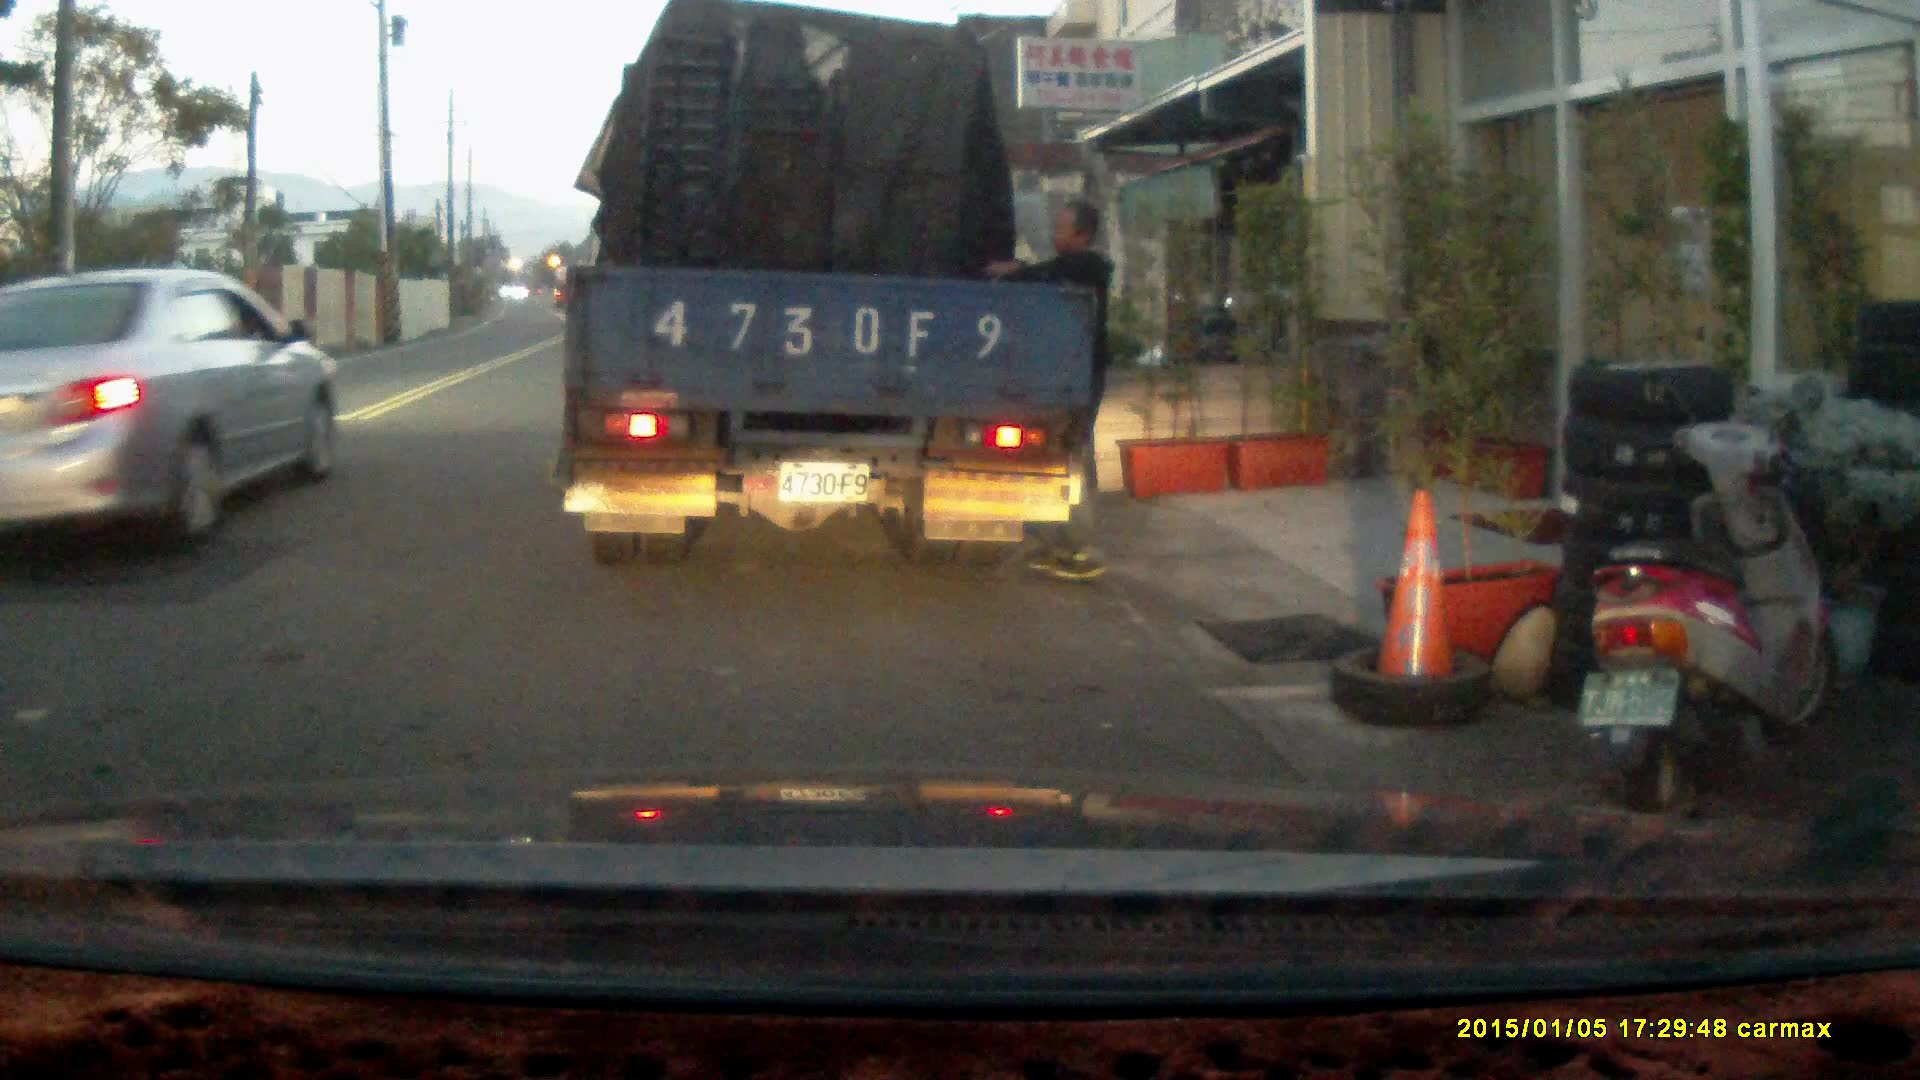pedestrian: (988, 198, 1118, 582)
vehicle: (565, 23, 1097, 572), (1, 265, 360, 568)
